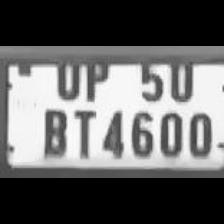0: (166, 48, 196, 102), (184, 106, 216, 156), (155, 105, 183, 158)
4: (98, 104, 126, 158)
5: (134, 50, 164, 100)
6: (125, 105, 155, 159)
B: (38, 102, 68, 156)
P: (80, 50, 110, 100)
T: (69, 104, 97, 158)
U: (50, 51, 82, 99)
